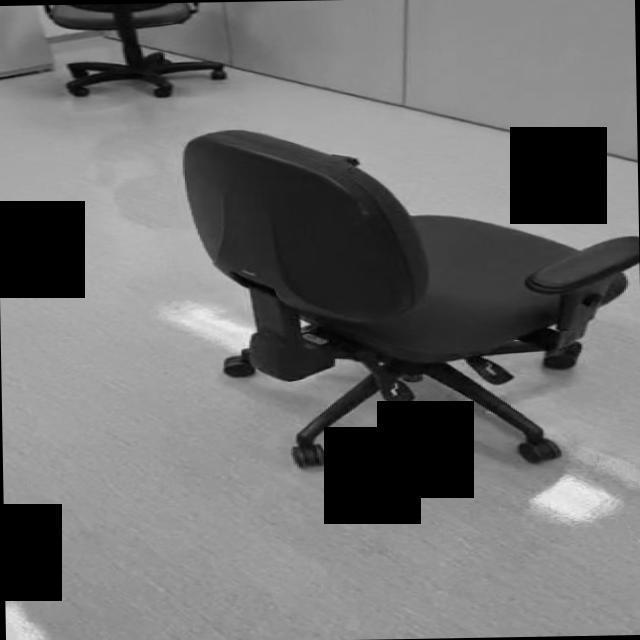chair: (181, 123, 640, 468)
